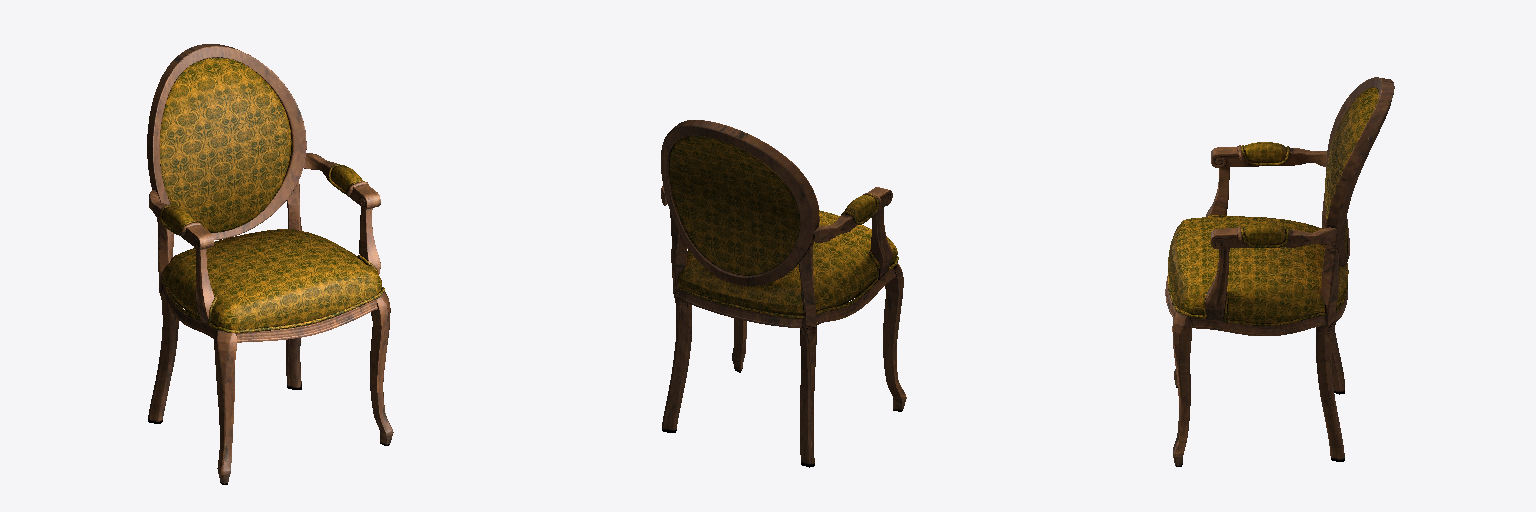
3 views of the same model, side by side, from view 1: azimuth 30°, elevation 25°; view 2: azimuth 150°, elevation 25°; view 3: azimuth 270°, elevation 25° (orthographic).
Parts seen in each view (by area): view 1: chair; view 2: chair; view 3: chair.
Boxes of the visible parts, <box> form: chair: <box>147,44,393,484</box>; chair: <box>661,120,906,467</box>; chair: <box>1165,77,1394,466</box>.
Bounding box in the file's own units: 0.644 × 1.12 × 0.6807.
1 materials, 1 textured.